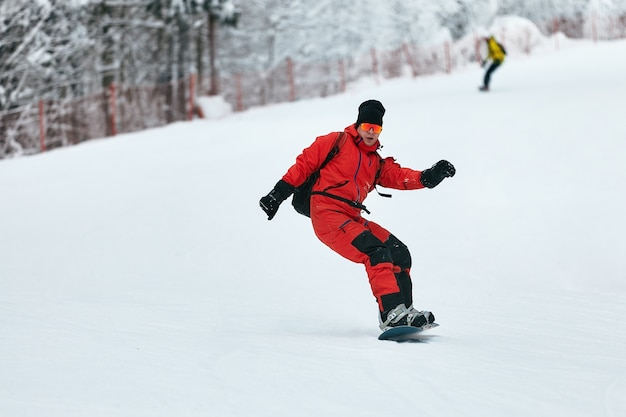snowboarder: (254, 97, 464, 343)
